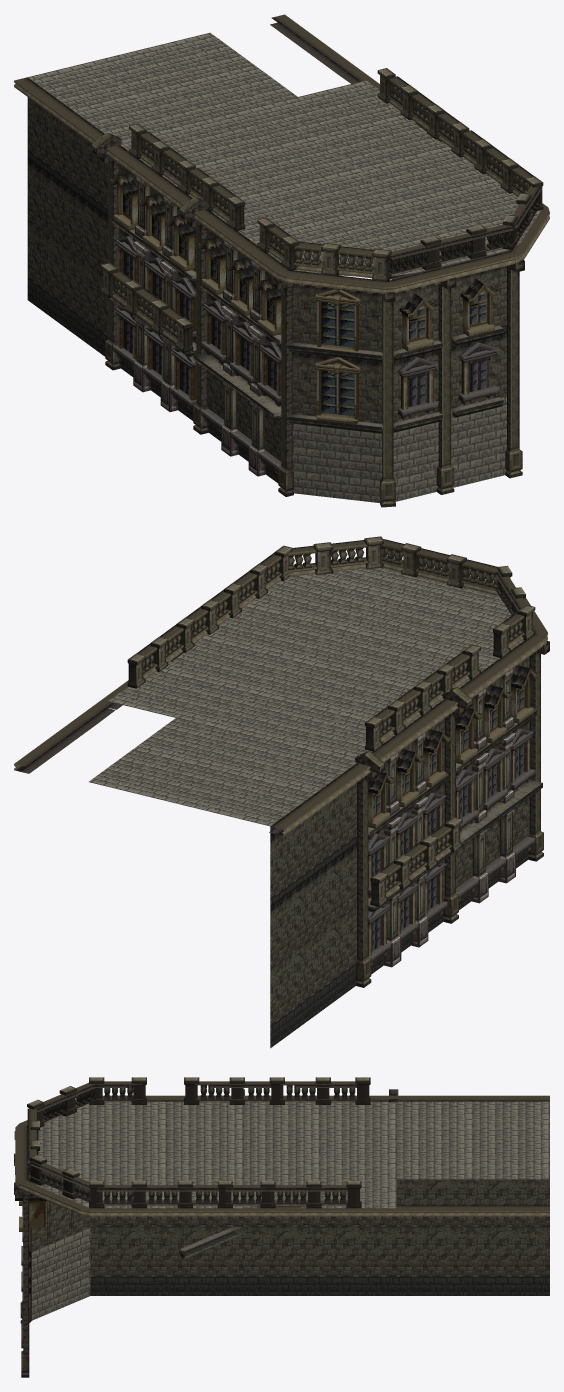
Rendered from EnvBdgMD_City_B_Outdoor_L_A_Event_A.FBX.
3 renders of one model, top to bottom at view 1: azimuth 30°, elevation 25°; view 2: azimuth 150°, elevation 25°; view 3: azimuth 270°, elevation 25°, orthographic. The views are drawn at different scales.
Visible parts, largest first — view 1: EnvBdgMD_City_B_Outdoor_L_A_Event_A; view 2: EnvBdgMD_City_B_Outdoor_L_A_Event_A; view 3: EnvBdgMD_City_B_Outdoor_L_A_Event_A.
Boxes of the visible parts, x1=… form: EnvBdgMD_City_B_Outdoor_L_A_Event_A: x1=14, y1=14, x2=549, y2=507; EnvBdgMD_City_B_Outdoor_L_A_Event_A: x1=14, y1=536, x2=549, y2=1048; EnvBdgMD_City_B_Outdoor_L_A_Event_A: x1=14, y1=1077, x2=549, y2=1377.
Size of the model in its own units: 921 by 785 by 1749.
1 material, 1 textured.
